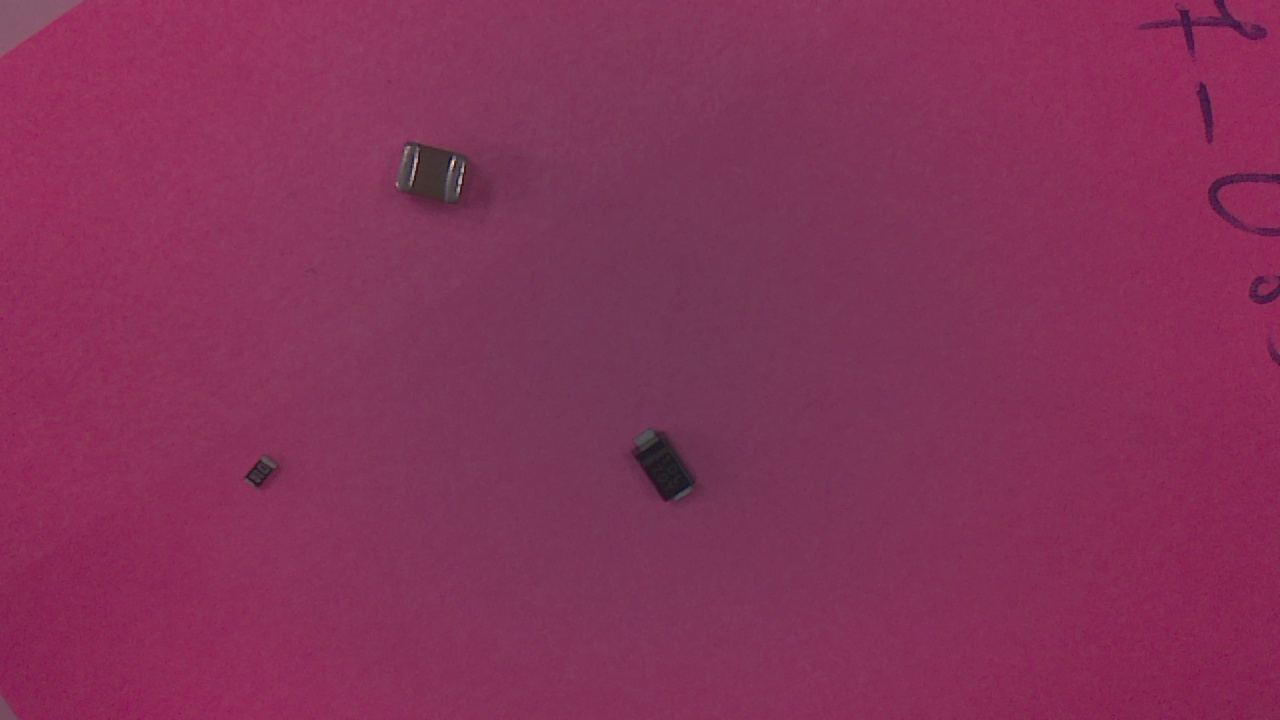Condensator: (393, 150, 476, 210)
Diode: (631, 430, 702, 508)
Resistor: (248, 457, 283, 495)
